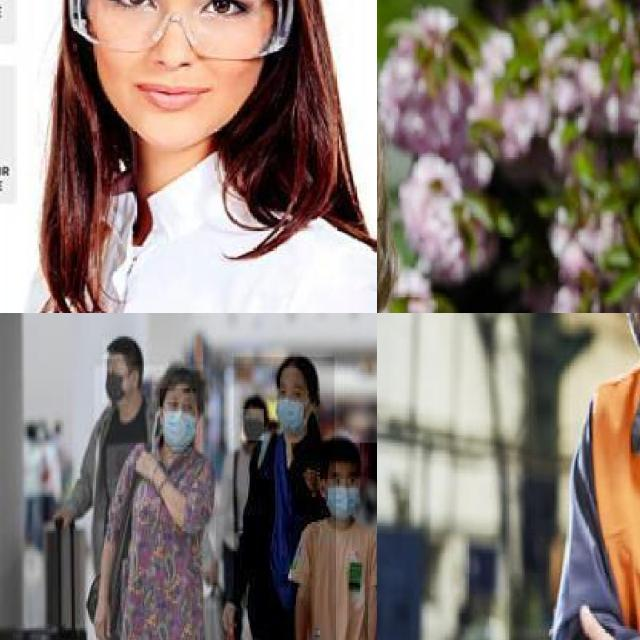face_mask: (160, 388, 197, 449), (275, 372, 307, 432), (325, 465, 358, 520), (102, 357, 128, 409), (242, 409, 266, 443)
face_nomask: (67, 0, 266, 121)
glasses: (65, 0, 292, 60)
hand_noglove: (547, 603, 640, 640), (218, 596, 246, 640), (48, 502, 75, 538), (91, 601, 115, 640)
head_nohelmet: (318, 440, 364, 479), (157, 370, 208, 398), (275, 352, 317, 384), (102, 339, 136, 361)
person: (3, 0, 377, 313), (94, 365, 212, 640), (541, 313, 640, 640), (377, 0, 472, 313), (233, 356, 336, 640), (291, 442, 377, 640)
vest: (580, 335, 640, 640)
